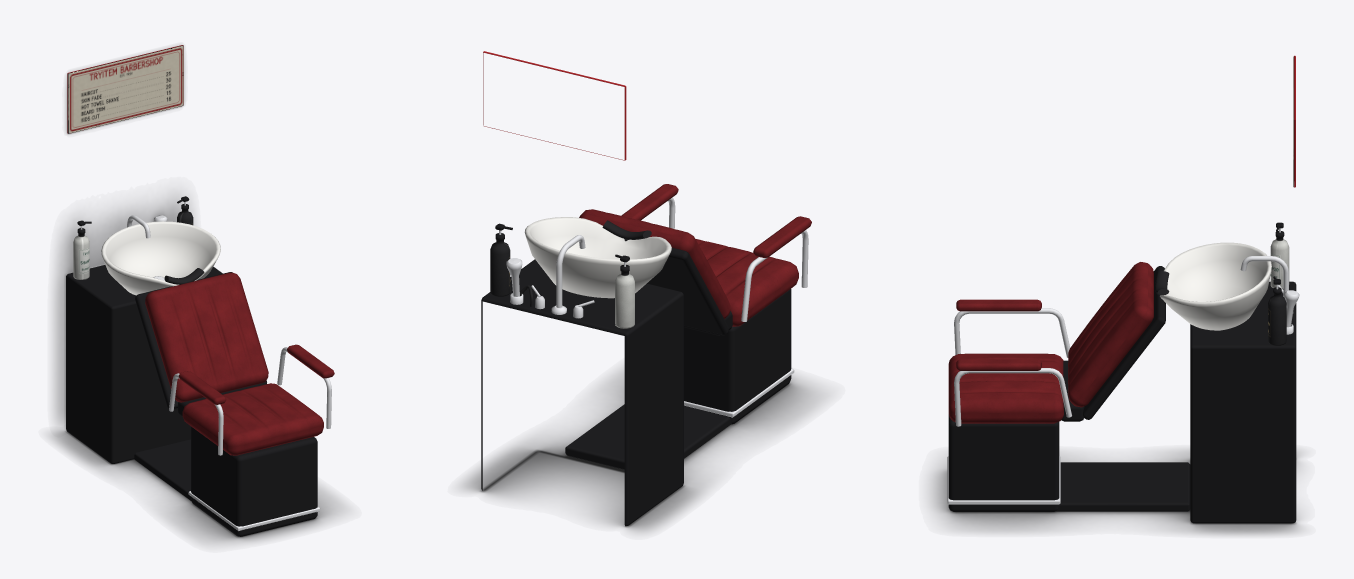
File: shampoo_station.glb
3 views of the same model, side by side, from view 1: azimuth 30°, elevation 25°; view 2: azimuth 150°, elevation 25°; view 3: azimuth 270°, elevation 25° (orthographic). The views are drawn at different scales.
Parts seen in each view (by area): view 1: shampoo_station_LOD0, shampoo_station_Shadow; view 2: shampoo_station_LOD0, shampoo_station_Shadow; view 3: shampoo_station_LOD0, shampoo_station_Shadow.
Part boxes in pixels (x1=…): shampoo_station_LOD0: x1=66, y1=45, x2=334, y2=536; shampoo_station_Shadow: x1=51, y1=72, x2=342, y2=542; shampoo_station_LOD0: x1=481, y1=51, x2=811, y2=526; shampoo_station_Shadow: x1=462, y1=370, x2=821, y2=531; shampoo_station_LOD0: x1=947, y1=55, x2=1299, y2=523; shampoo_station_Shadow: x1=932, y1=450, x2=1299, y2=534.
Size of what is drawn, in the model's own units: 0.945 by 2.01 by 1.72.
5 materials, 4 textured.
